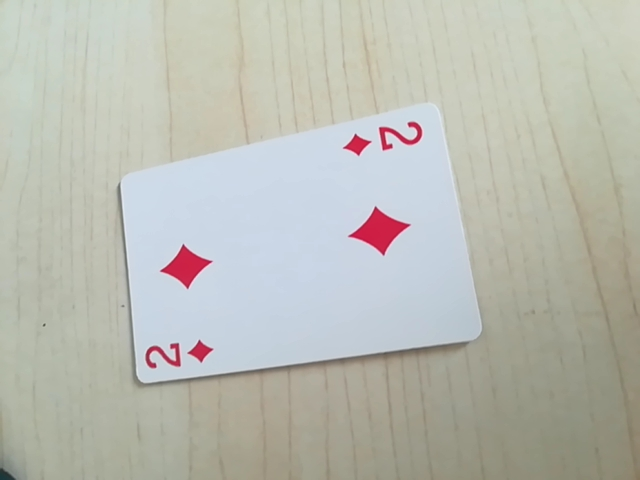fk 2: (341, 116, 429, 163), (142, 335, 219, 381)
